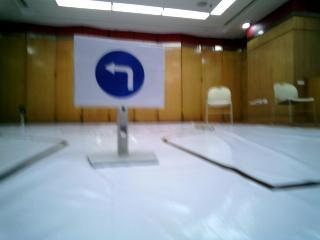left: (77, 37, 158, 108)
